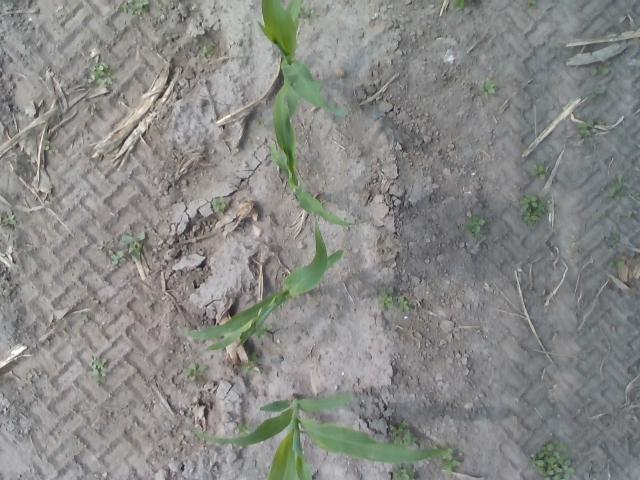Maize: (188, 392, 455, 480), (190, 220, 344, 351), (256, 0, 350, 190), (268, 138, 372, 226)
Weeds: (530, 439, 575, 480), (517, 193, 547, 228), (432, 443, 460, 475), (119, 231, 146, 262), (88, 61, 118, 88), (390, 420, 418, 448), (606, 174, 629, 202), (462, 213, 486, 239), (88, 356, 108, 382), (183, 362, 206, 384), (120, 0, 150, 16), (389, 463, 416, 480), (240, 352, 262, 372), (576, 119, 596, 138), (479, 77, 497, 98), (297, 2, 315, 22), (378, 289, 396, 308), (532, 163, 550, 180), (586, 84, 604, 101), (108, 250, 127, 266), (255, 322, 272, 339), (200, 42, 219, 57), (590, 63, 610, 77), (211, 195, 226, 213), (236, 422, 254, 436), (0, 212, 17, 226), (398, 297, 413, 310), (608, 258, 626, 268), (452, 0, 468, 10), (612, 230, 621, 247), (44, 140, 53, 154), (596, 208, 608, 218), (97, 238, 105, 250), (256, 118, 268, 126), (629, 190, 640, 198), (526, 0, 538, 7), (597, 119, 606, 128), (626, 210, 633, 218), (82, 316, 88, 324), (83, 106, 89, 113)
